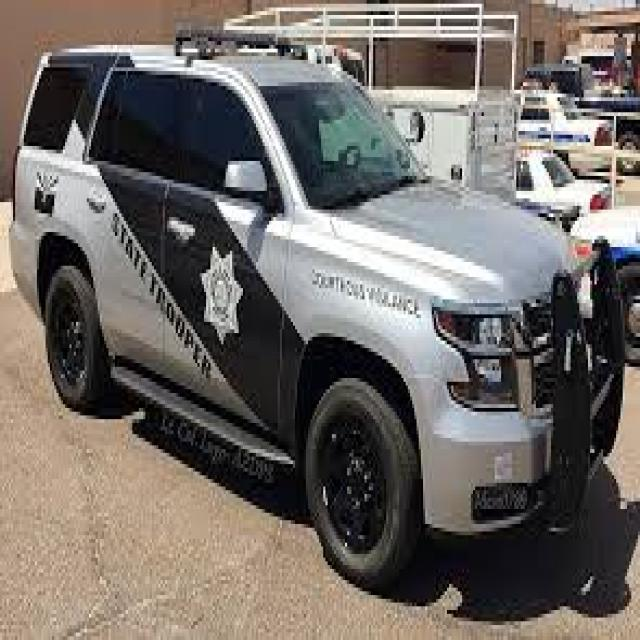cop: (12, 31, 628, 588)
